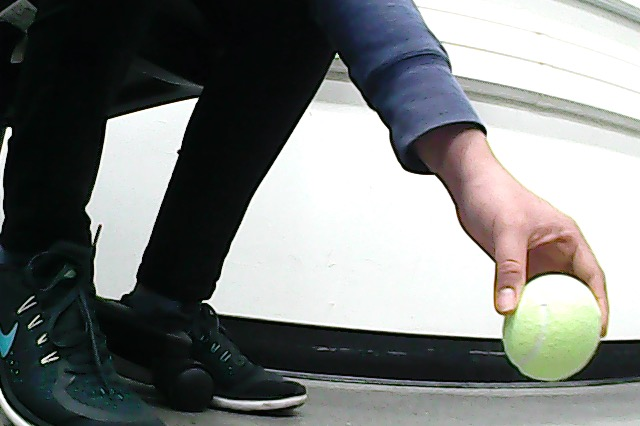ball: (504, 273, 601, 381)
